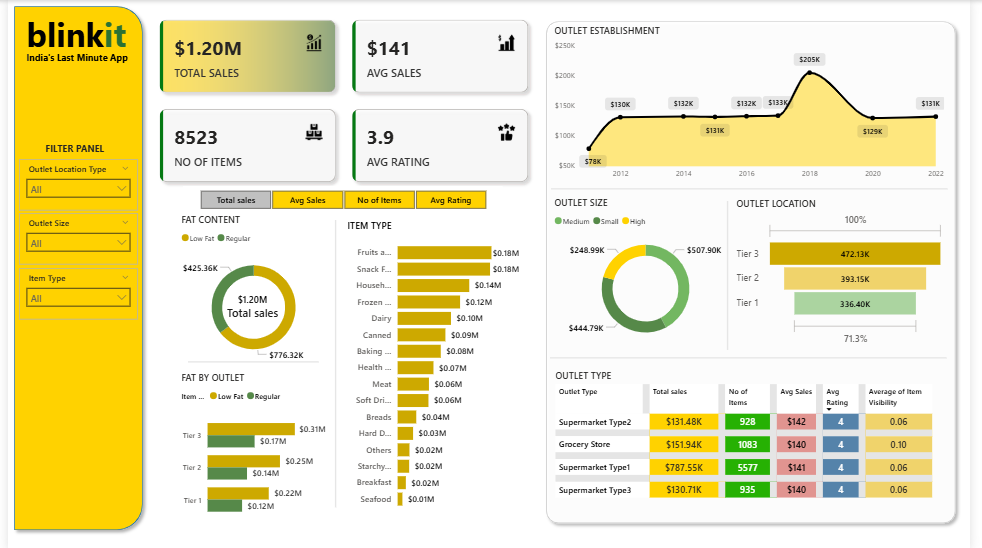

The page's visual inventory and layout, read from the dashboard file:
{"tool":"powerbi","page":{"name":"Page 1","canvas":[1400,800],"ordinal":0},"visuals":[{"type":"shape","box":[0,0,205,780],"z":0},{"type":"textbox","box":[273.3,721.7,265,28.3],"z":1000},{"type":"textbox","box":[21.7,11.7,183.3,91.7],"z":2000},{"type":"textbox","box":[21.7,70,210,33.3],"z":3000},{"type":"cardVisual","fields":{"Data":["BlinkIT Grocery Data.Total sales","BlinkIT Grocery Data.Avg Sales","BlinkIT Grocery Data.No of Items","BlinkIT Grocery Data.Avg Rating"]},"box":[203.3,11.7,570,270],"z":4000},{"type":"shape","box":[773.3,21.7,613.3,748.3],"z":5000},{"type":"donutChart","title":"FAT CONTENT","fields":{"Y":["BlinkIT Grocery Data.Total sales"],"Category":["BlinkIT Grocery Data.Item Fat Content"]},"box":[246.7,310,220,230],"z":6000},{"type":"slicer","fields":{"Values":["Metrices.Metrices"]},"box":[255,270,465,40],"z":7000},{"type":"cardVisual","fields":{"Data":["BlinkIT Grocery Data.Total sales"]},"box":[296.7,400,118.3,91.7],"z":8000},{"type":"clusteredBarChart","title":"FAT BY OUTLET","fields":{"Y":["BlinkIT Grocery Data.Total sales"],"Category":["BlinkIT Grocery Data.Outlet Location Type"],"Series":["BlinkIT Grocery Data.Item Fat Content"]},"box":[246.7,540,220,230],"z":8001},{"type":"shape","box":[261.7,516.7,190,20],"z":8002},{"type":"shape","box":[463.3,320,25,418.3],"z":8003},{"type":"barChart","title":" ITEM TYPE","fields":{"Category":["BlinkIT Grocery Data.Item Type"],"Y":["BlinkIT Grocery Data.Total sales"]},"box":[488.3,318.3,260,431.7],"z":8004},{"type":"lineChart","title":"OUTLET ESTABLISHMENT","fields":{"Category":["BlinkIT Grocery Data.Outlet Establishment Year"],"Y":["BlinkIT Grocery Data.Total sales"]},"box":[790,35,576.7,235],"z":8005},{"type":"shape","box":[790,270,576.7,8.3],"z":8006},{"type":"donutChart","title":"OUTLET SIZE","fields":{"Y":["BlinkIT Grocery Data.Total sales"],"Category":["BlinkIT Grocery Data.Outlet Size"]},"box":[790,285,275,225],"z":8007},{"type":"shape","box":[1040,291.7,13.3,216.7],"z":8008},{"type":"funnel","title":"OUTLET LOCATION","fields":{"Category":["BlinkIT Grocery Data.Outlet Location Type"],"Y":["Sum(BlinkIT Grocery Data.Sales)"]},"box":[1055,286.7,311.7,220],"z":8009},{"type":"shape","box":[788.3,516.7,576.7,8.3],"z":8010},{"type":"pivotTable","title":"OUTLET TYPE","fields":{"Rows":["BlinkIT Grocery Data.Outlet Type"],"Values":["BlinkIT Grocery Data.Total sales","BlinkIT Grocery Data.No of Items","BlinkIT Grocery Data.Avg Sales","BlinkIT Grocery Data.Avg Rating","Avg(BlinkIT Grocery Data.Item Visibility)"]},"box":[791.7,536.7,576.7,206.7],"z":8011},{"type":"slicer","fields":{"Values":["BlinkIT Grocery Data.Outlet Location Type"]},"box":[16.7,231.7,173.3,75],"z":8012},{"type":"slicer","fields":{"Values":["BlinkIT Grocery Data.Outlet Size"]},"box":[16.7,310,173.3,75],"z":8013},{"type":"slicer","fields":{"Values":["BlinkIT Grocery Data.Item Type"]},"box":[16.7,390,173.3,75],"z":8014},{"type":"textbox","box":[50,201.7,105,30],"z":8015}]}

Visuals, with their boxes in screenshot pixels (x1, y1, x2, y2), scaled from the page's 1400x800 canvas onto the 982x548 screenshot:
shape: box=[0, 0, 144, 534]
textbox: box=[192, 494, 378, 514]
textbox: box=[15, 8, 144, 71]
textbox: box=[15, 48, 163, 71]
cardVisual - BlinkIT Grocery Data.Total sales x BlinkIT Grocery Data.Avg Sales: box=[143, 8, 542, 193]
shape: box=[542, 15, 973, 527]
"FAT CONTENT" donutChart: box=[173, 212, 327, 370]
slicer - Metrices.Metrices: box=[179, 185, 505, 212]
cardVisual - BlinkIT Grocery Data.Total sales: box=[208, 274, 291, 337]
"FAT BY OUTLET" clusteredBarChart: box=[173, 370, 327, 527]
shape: box=[184, 354, 317, 368]
shape: box=[325, 219, 343, 506]
" ITEM TYPE" barChart: box=[343, 218, 525, 514]
"OUTLET ESTABLISHMENT" lineChart: box=[554, 24, 959, 185]
shape: box=[554, 185, 959, 191]
"OUTLET SIZE" donutChart: box=[554, 195, 747, 349]
shape: box=[729, 200, 739, 348]
"OUTLET LOCATION" funnel: box=[740, 196, 959, 347]
shape: box=[553, 354, 957, 360]
"OUTLET TYPE" pivotTable: box=[555, 368, 960, 509]
slicer - BlinkIT Grocery Data.Outlet Location Type: box=[12, 159, 133, 210]
slicer - BlinkIT Grocery Data.Outlet Size: box=[12, 212, 133, 264]
slicer - BlinkIT Grocery Data.Item Type: box=[12, 267, 133, 319]
textbox: box=[35, 138, 109, 159]
